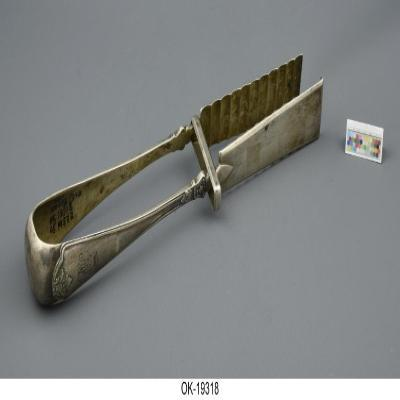dpi: (24, 56, 324, 309)
